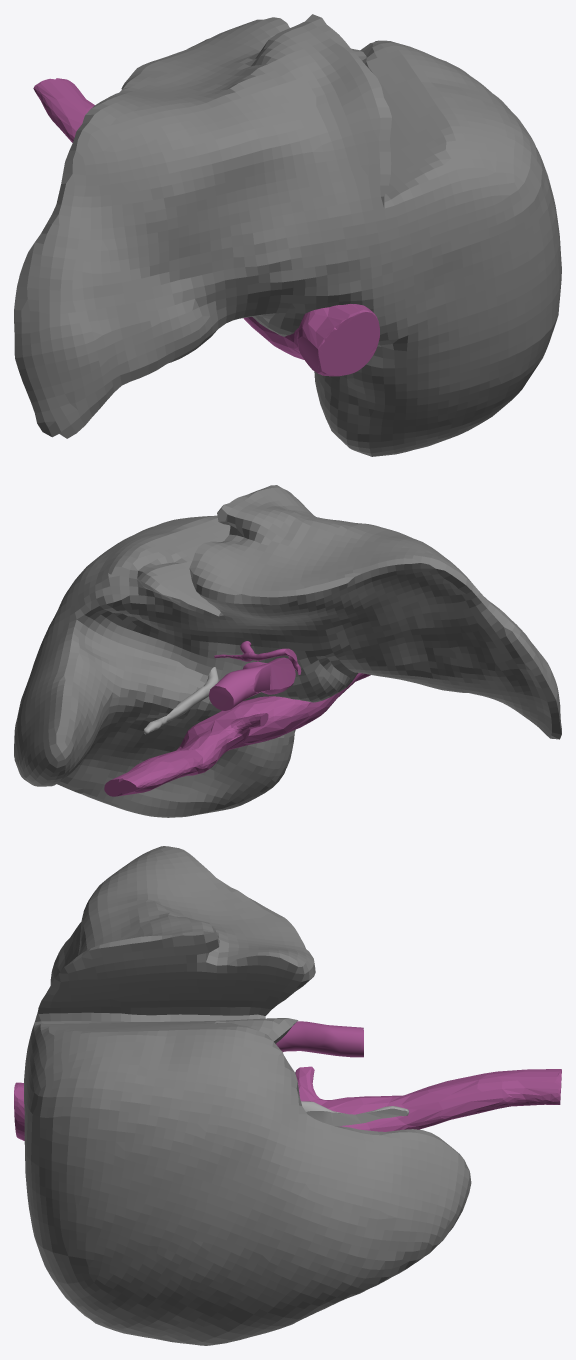
Rendered from Resektionsebene_3D.FBX.
The picture shows the model from 3 angles, top to bottom: view 1: azimuth 30°, elevation 25°; view 2: azimuth 150°, elevation 25°; view 3: azimuth 270°, elevation 25°; orthographic projection. The views are drawn at different scales.
Visible parts, largest first — view 1: 10K, Vena Cava gespreizt; view 2: 10K, Vena Cava gespreizt, Pfortader gespreizt, Gallenblase verschoben, Aorta gespreizt; view 3: 10K, Vena Cava gespreizt, Pfortader gespreizt, Gallenblase verschoben.
Part boxes in pixels (x1=…): 10K: x1=14, y1=14, x2=561, y2=456; Vena Cava gespreizt: x1=33, y1=78, x2=379, y2=376; 10K: x1=14, y1=485, x2=561, y2=817; Vena Cava gespreizt: x1=104, y1=673, x2=370, y2=796; Pfortader gespreizt: x1=209, y1=657, x2=295, y2=710; Gallenblase verschoben: x1=143, y1=667, x2=218, y2=734; Aorta gespreizt: x1=214, y1=641, x2=301, y2=674; 10K: x1=24, y1=846, x2=471, y2=1345; Vena Cava gespreizt: x1=14, y1=1066, x2=561, y2=1140; Pfortader gespreizt: x1=276, y1=1021, x2=363, y2=1057; Gallenblase verschoben: x1=301, y1=1101, x2=408, y2=1126.
Size of the model in its own units: 49.2 by 34.7 by 46.08.
